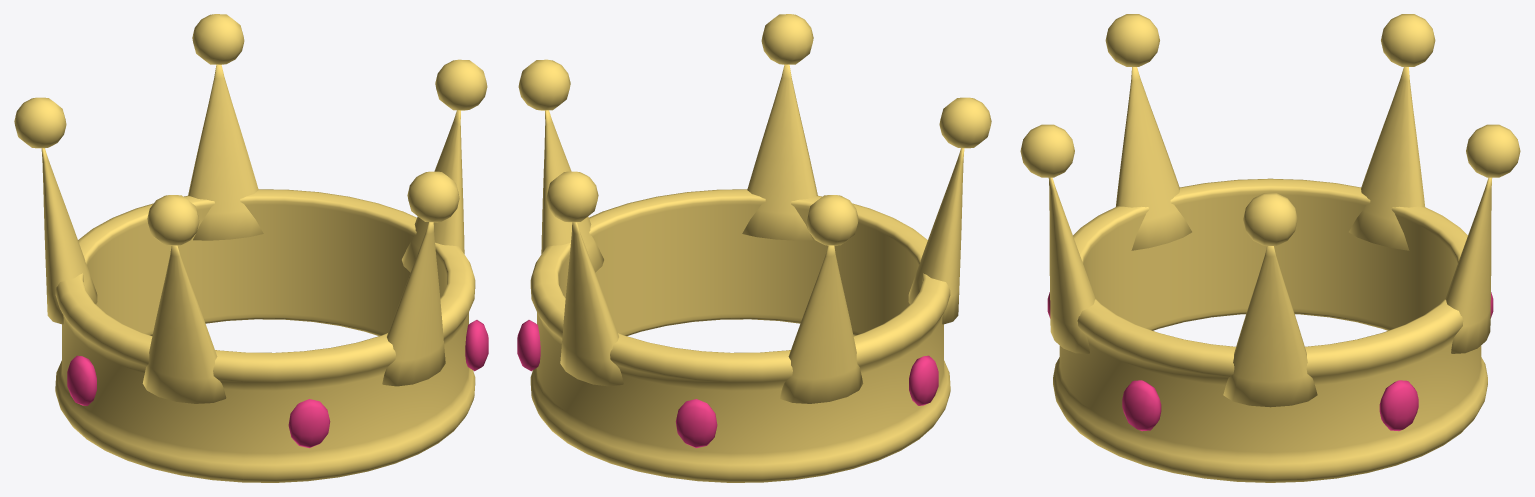
File: crown.glb
3 views of the same model, side by side, from view 1: azimuth 30°, elevation 25°; view 2: azimuth 150°, elevation 25°; view 3: azimuth 270°, elevation 25° (orthographic). The views are drawn at different scales.
Visible parts, largest first — view 1: CrownBand, Spike3, Spike1, Spike4, Spike2, Spike0, Ball2, Ball4, Ball0, Ball1, Ball3, Gem3 (+2 smaller); view 2: CrownBand, Spike2, Spike4, Spike1, Spike3, Spike0, Ball1, Ball3, Ball0, Ball4, Ball2, Gem1 (+2 smaller); view 3: CrownBand, Spike0, Spike2, Spike3, Spike1, Spike4, Ball1, Ball4, Ball0, Ball2, Ball3, Gem0 (+1 smaller).
Part boxes in pixels (x1=…): CrownBand: x1=55, y1=189, x2=475, y2=482; Spike3: x1=142, y1=245, x2=226, y2=403; Spike1: x1=188, y1=64, x2=263, y2=240; Spike4: x1=382, y1=222, x2=445, y2=386; Spike2: x1=41, y1=148, x2=97, y2=324; Spike0: x1=402, y1=110, x2=464, y2=272; Ball2: x1=14, y1=97, x2=66, y2=148; Ball4: x1=407, y1=171, x2=459, y2=222; Ball0: x1=435, y1=59, x2=487, y2=110; Ball1: x1=192, y1=14, x2=244, y2=64; Ball3: x1=147, y1=195, x2=199, y2=245; Gem3: x1=288, y1=399, x2=330, y2=448; CrownBand: x1=530, y1=189, x2=950, y2=482; Spike2: x1=779, y1=245, x2=863, y2=403; Spike4: x1=742, y1=64, x2=817, y2=240; Spike1: x1=560, y1=222, x2=623, y2=386; Spike3: x1=908, y1=148, x2=964, y2=324; Spike0: x1=541, y1=110, x2=603, y2=272; Ball1: x1=546, y1=171, x2=598, y2=222; Ball3: x1=939, y1=97, x2=991, y2=148; Ball0: x1=518, y1=59, x2=570, y2=110; Ball4: x1=761, y1=14, x2=813, y2=64; Ball2: x1=806, y1=195, x2=858, y2=245; Gem1: x1=675, y1=399, x2=717, y2=448; CrownBand: x1=1053, y1=178, x2=1487, y2=482; Spike0: x1=1223, y1=246, x2=1317, y2=407; Spike2: x1=1349, y1=67, x2=1424, y2=250; Spike3: x1=1116, y1=67, x2=1191, y2=250; Spike1: x1=1445, y1=177, x2=1492, y2=353; Spike4: x1=1048, y1=177, x2=1095, y2=353; Ball1: x1=1466, y1=124, x2=1520, y2=177; Ball4: x1=1020, y1=124, x2=1074, y2=177; Ball0: x1=1243, y1=193, x2=1297, y2=245; Ball2: x1=1381, y1=14, x2=1435, y2=66; Ball3: x1=1105, y1=14, x2=1159, y2=66; Gem0: x1=1379, y1=380, x2=1418, y2=431.
Size of the model in its own units: 1.23 by 0.8187 by 1.24.
